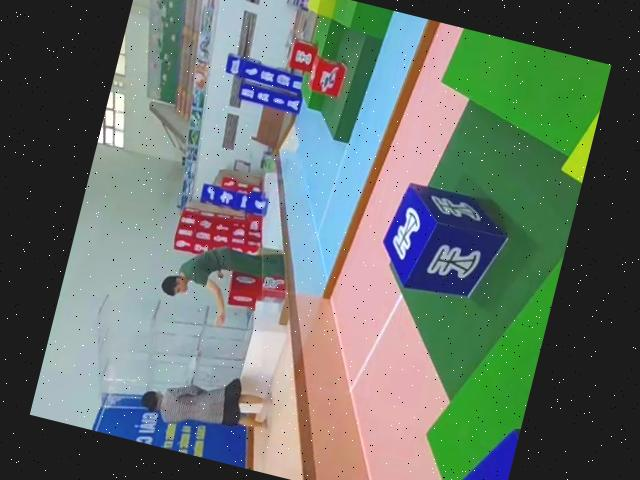R2 Real Blue: (376, 177, 520, 308)
